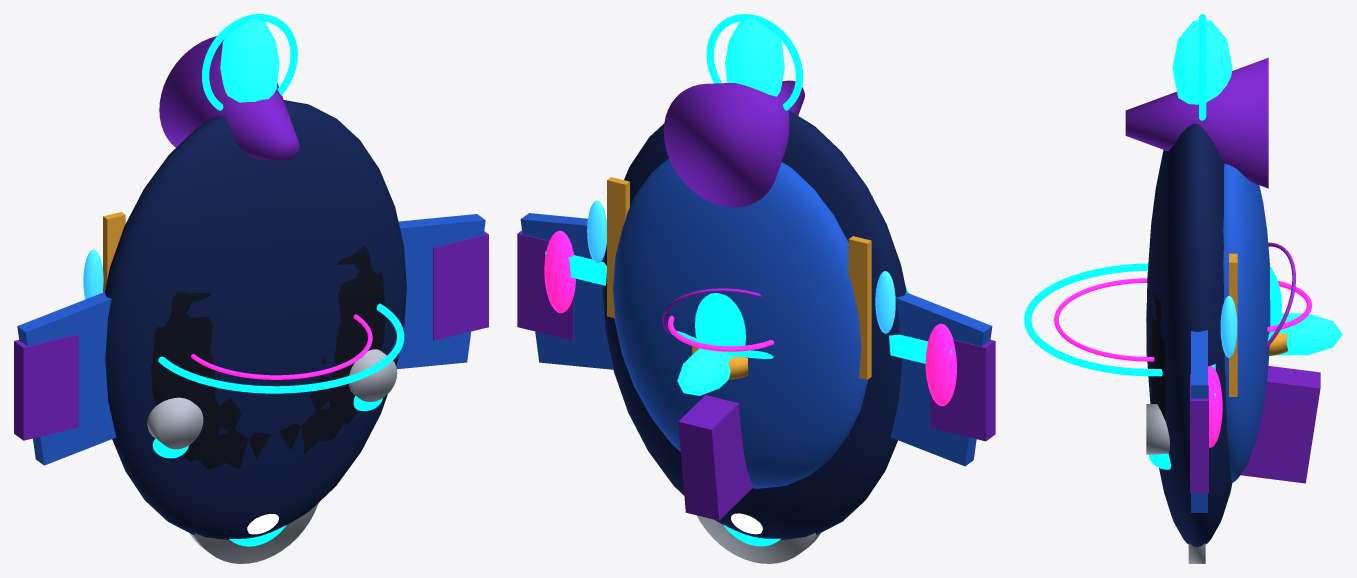
The model's file is player_ship.glb.
The picture shows the model from 3 angles, left to right: view 1: azimuth 30°, elevation 25°; view 2: azimuth 150°, elevation 25°; view 3: azimuth 270°, elevation 25°; orthographic projection.
Visible parts, largest first — view 1: HULL_LOWER, HULL_UNDERSIDE, HULL_NOSE, LEFT_WING, RIGHT_WING, LEFT_WING_PURPLE, RIGHT_WING_PURPLE, FRONT_CRYSTAL, HOVER_FIELD_RING, LEFT_HOVER_ENGINE, REAR_ENGINE_RING, FRONT_CRYSTAL_RING (+4 smaller); view 2: HULL_UPPER, HULL_LOWER, HULL_NOSE, REAR_FIN, LEFT_WING, RIGHT_WING, LEFT_WING_PURPLE, RIGHT_WING_PURPLE, FRONT_CRYSTAL, LEFT_GOLD_DETAIL, DRAVYA_CORE, REAR_ENGINE_RING (+10 smaller); view 3: HULL_LOWER, HULL_UPPER, HULL_NOSE, REAR_FIN, FRONT_CRYSTAL, HOVER_FIELD_RING, TOP_CRYSTAL, RIGHT_WING_PURPLE, RIGHT_WING, HULL_UNDERSIDE, HOVER_FIELD_RING_2, RIGHT_HOVER_ENGINE (+7 smaller).
Boxes of the visible parts, bbox=[...] form: HULL_LOWER: bbox=[105, 100, 406, 539]; HULL_UNDERSIDE: bbox=[151, 246, 385, 469]; HULL_NOSE: bbox=[159, 36, 299, 160]; LEFT_WING: bbox=[17, 292, 116, 465]; RIGHT_WING: bbox=[396, 214, 485, 369]; LEFT_WING_PURPLE: bbox=[14, 334, 78, 440]; RIGHT_WING_PURPLE: bbox=[433, 231, 488, 340]; FRONT_CRYSTAL: bbox=[220, 18, 279, 102]; HOVER_FIELD_RING: bbox=[158, 303, 404, 393]; LEFT_HOVER_ENGINE: bbox=[147, 397, 203, 449]; REAR_ENGINE_RING: bbox=[190, 503, 318, 563]; FRONT_CRYSTAL_RING: bbox=[202, 14, 297, 110]; HULL_UPPER: bbox=[613, 158, 868, 488]; HULL_LOWER: bbox=[602, 111, 906, 539]; HULL_NOSE: bbox=[663, 80, 804, 207]; REAR_FIN: bbox=[678, 395, 753, 520]; LEFT_WING: bbox=[890, 292, 992, 466]; RIGHT_WING: bbox=[520, 213, 613, 369]; LEFT_WING_PURPLE: bbox=[930, 339, 995, 441]; RIGHT_WING_PURPLE: bbox=[517, 230, 573, 340]; FRONT_CRYSTAL: bbox=[725, 18, 784, 96]; LEFT_GOLD_DETAIL: bbox=[848, 236, 871, 379]; DRAVYA_CORE: bbox=[695, 293, 745, 356]; REAR_ENGINE_RING: bbox=[697, 515, 820, 563]; HULL_LOWER: bbox=[1146, 123, 1232, 547]; HULL_UPPER: bbox=[1223, 164, 1270, 482]; HULL_NOSE: bbox=[1125, 57, 1268, 188]; REAR_FIN: bbox=[1240, 366, 1320, 483]; FRONT_CRYSTAL: bbox=[1172, 20, 1232, 104]; HOVER_FIELD_RING: bbox=[1024, 263, 1280, 376]; TOP_CRYSTAL: bbox=[1276, 313, 1342, 355]; RIGHT_WING_PURPLE: bbox=[1190, 374, 1208, 492]; RIGHT_WING: bbox=[1191, 330, 1207, 512]; HULL_UNDERSIDE: bbox=[1150, 292, 1165, 419]; HOVER_FIELD_RING_2: bbox=[1054, 278, 1154, 361]; RIGHT_HOVER_ENGINE: bbox=[1146, 404, 1169, 454].
Size of what is drawn, in the model's own units: 5.04 by 5.6 by 3.01.
